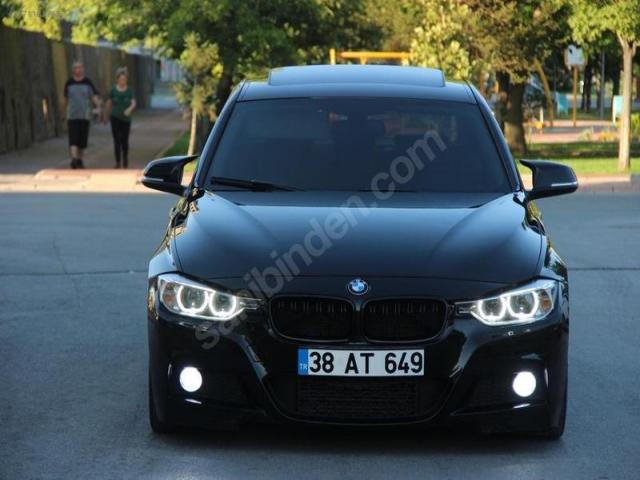plaka: (298, 349, 424, 376)
